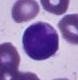L: (22, 22, 60, 62)
